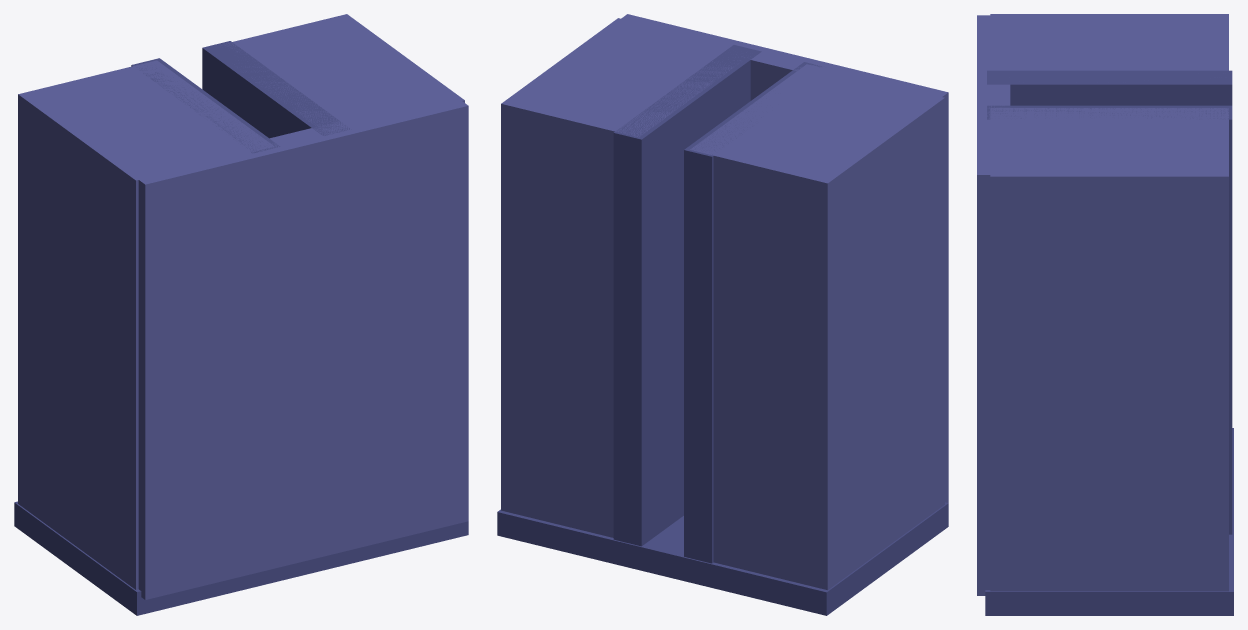
Rendered from kimono_saia.glb.
3 renders of one model, left to right at view 1: azimuth 30°, elevation 25°; view 2: azimuth 150°, elevation 25°; view 3: azimuth 270°, elevation 25°, orthographic.
Visible parts, largest first — view 1: kimono_saia; view 2: kimono_saia; view 3: kimono_saia.
Part boxes in pixels (<box>): kimono_saia: <box>14,14,468,615</box>; kimono_saia: <box>497,14,948,615</box>; kimono_saia: <box>977,14,1233,615</box>.
Size of the model in its own units: 0.585 by 0.73 by 0.3875.
